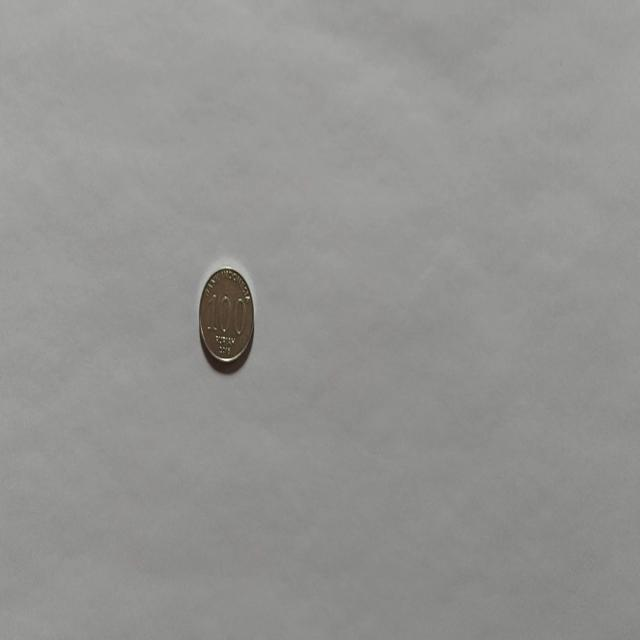seratus rupiah: (198, 265, 255, 370)
